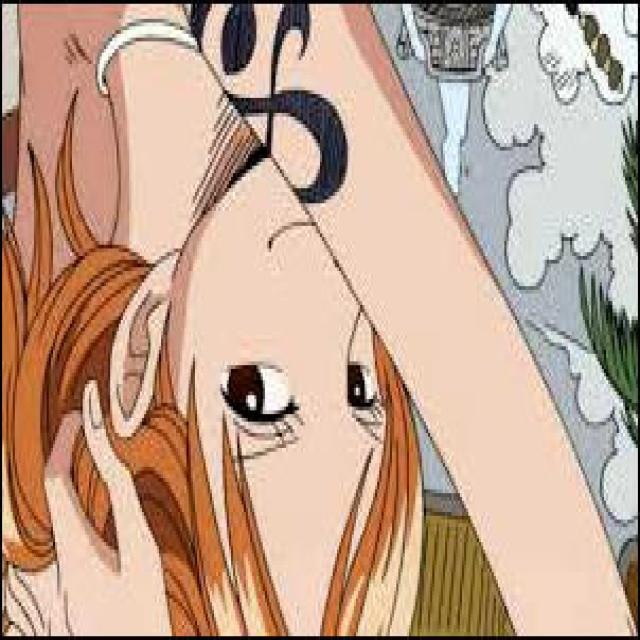Nami: (0, 4, 638, 628)
